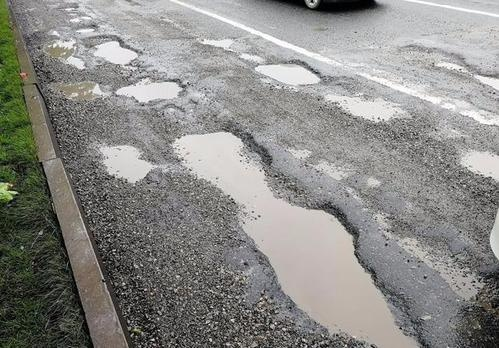puddle: (169, 126, 421, 348), (330, 92, 408, 123), (97, 143, 154, 185), (252, 59, 324, 86), (115, 78, 188, 101), (88, 37, 141, 66), (41, 40, 83, 68), (51, 79, 102, 101)
